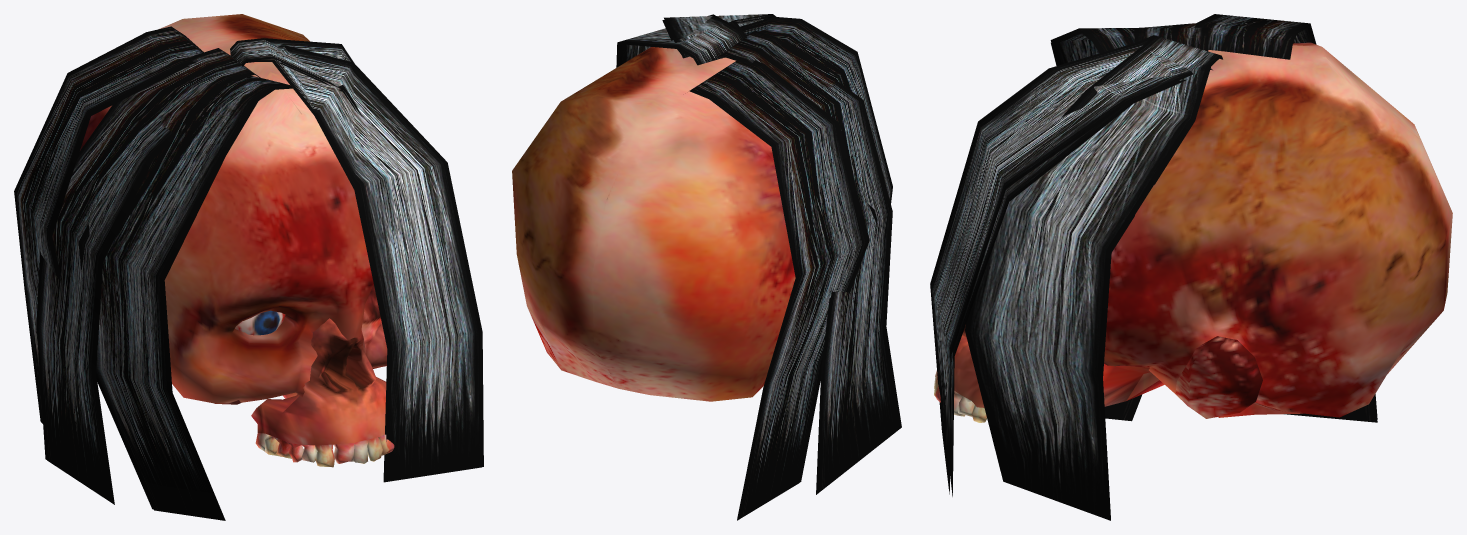
File: female_head_noneck-04.fbx
3 renders of one model, left to right at view 1: azimuth 30°, elevation 25°; view 2: azimuth 150°, elevation 25°; view 3: azimuth 270°, elevation 25°, orthographic. The views are drawn at different scales.
Parts seen in each view (by area): view 1: fm_head4; view 2: fm_head4; view 3: fm_head4.
Boxes of the visible parts, x1,y1,x2,y2 form: fm_head4: [14, 14, 483, 520]; fm_head4: [512, 14, 901, 520]; fm_head4: [930, 14, 1452, 520].
Bounding box in the file's own units: 0.214 × 0.2475 × 0.2658.
